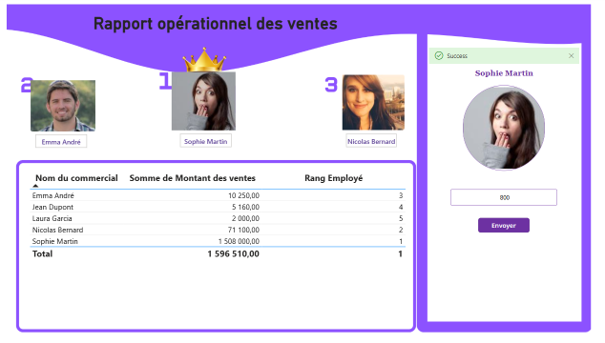

This screenshot's page, from the dashboard's own definition file:
{"tool":"powerbi","page":{"name":"Page 1","canvas":[1280,720],"ordinal":0},"visuals":[{"type":"image","box":[0,13.9,1280,657.4],"z":0},{"type":"tableEx","fields":{"Values":["dimEmployé.Nom du commercial","Sum(ventesPrincipales.Montant des ventes)","dimEmployé.Rang Employé"]},"box":[96,343.1,766.6,299.9],"z":1000},{"type":"PowerApps_PBI_CV_C29F1DCC_81F5_4973_94AD_0517D44CC06A","fields":{"table":["dimEmployé.Nom du commercial","Sum(ventesPrincipales.Montant des ventes)","dimEmployé.ID employé","dimEmployé.Photo employé","ventesPrincipales.Numero Vendeur ID","dimEmployé.User Filter"]},"box":[894.9,96,310.7,547],"z":2000},{"type":"cardVisual","fields":{"Data":["dimEmployé.Rang_Employe1"]},"box":[385.1,256.7,138,61.2],"z":3000},{"type":"cardVisual","fields":{"Data":["dimEmployé.Img_Employe1"]},"box":[156.8,27.9,587.7,245.1],"z":4000},{"type":"textbox","box":[217.2,27.9,511.1,55.8],"z":5000},{"type":"cardVisual","fields":{"Data":["dimEmployé.Rang_Employe2"]},"box":[717.4,256.7,135.6,61.2],"z":6000},{"type":"cardVisual","fields":{"Data":["dimEmployé.Rang_Employe3"]},"box":[96,256.7,138,61.2],"z":7000},{"type":"cardVisual","fields":{"Data":["dimEmployé.Img_Employe3"]},"box":[717.8,151,139.4,122],"z":8000},{"type":"cardVisual","fields":{"Data":["dimEmployé.Img_Employe2"]},"box":[88.3,47.6,166.1,239.3],"z":9000}]}

Visuals, with their boxes in screenshot pixels (x1, y1, x2, y2), scaled from the page's 1280x720 canvas onto the 605x343 screenshot:
image: [0,7,604,320]
tableEx - dimEmployé.Nom du commercial x Sum(ventesPrincipales.Montant des ventes): [45,163,408,306]
PowerApps_PBI_CV_C29F1DCC_81F5_4973_94AD_0517D44CC06A - dimEmployé.Nom du commercial x Sum(ventesPrincipales.Montant des ventes): [423,46,570,306]
cardVisual - dimEmployé.Rang_Employe1: [182,122,247,151]
cardVisual - dimEmployé.Img_Employe1: [74,13,352,130]
textbox: [103,13,344,40]
cardVisual - dimEmployé.Rang_Employe2: [339,122,403,151]
cardVisual - dimEmployé.Rang_Employe3: [45,122,111,151]
cardVisual - dimEmployé.Img_Employe3: [339,72,405,130]
cardVisual - dimEmployé.Img_Employe2: [42,23,120,137]
